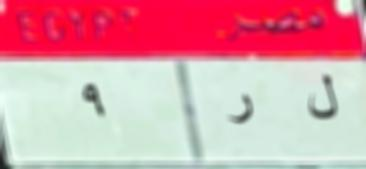9: (77, 80, 112, 124)
laam: (306, 70, 344, 125)
raa: (222, 92, 256, 130)
